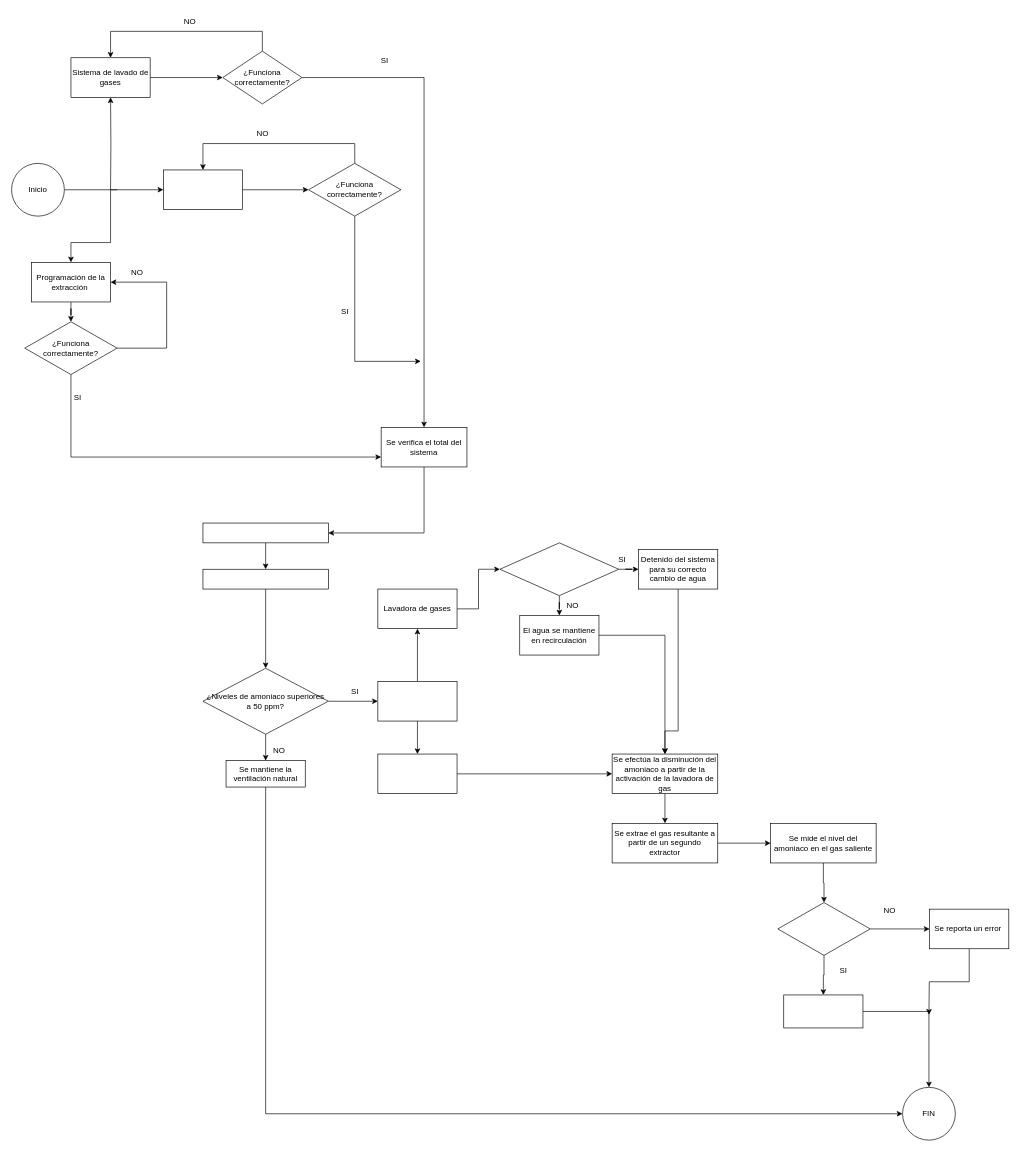
Some shapes in this 1020 by 1152 pixel diagram are drawn without their labels. The shapes that lost their labels are listed below. From the top down, each one's centre as x and y in pixels, then its label:
pixel 203 189: Calibración de los sensores de amoniaco
pixel 265 532: Ingreso del gas de amoniaco
pixel 265 579: Lectura del primer sensor de amoniaco
pixel 559 569: ¿El agua en la circulación necesita ser cambiado?
pixel 417 701: Activación del sistema de lavado de gases
pixel 417 773: Se activa extractor de aire
pixel 823 928: A disminuido la concentración
pixel 823 1011: Se reporta el éxito del proceso
